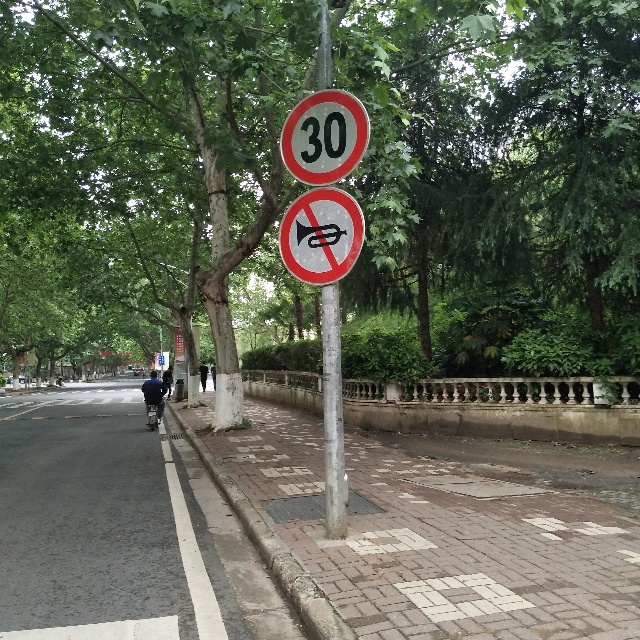nohonk: (282, 195, 358, 275)
